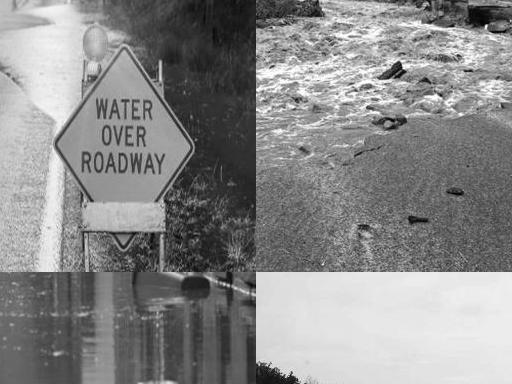road_waterlogging: (182, 82, 256, 262), (0, 1, 80, 75)
